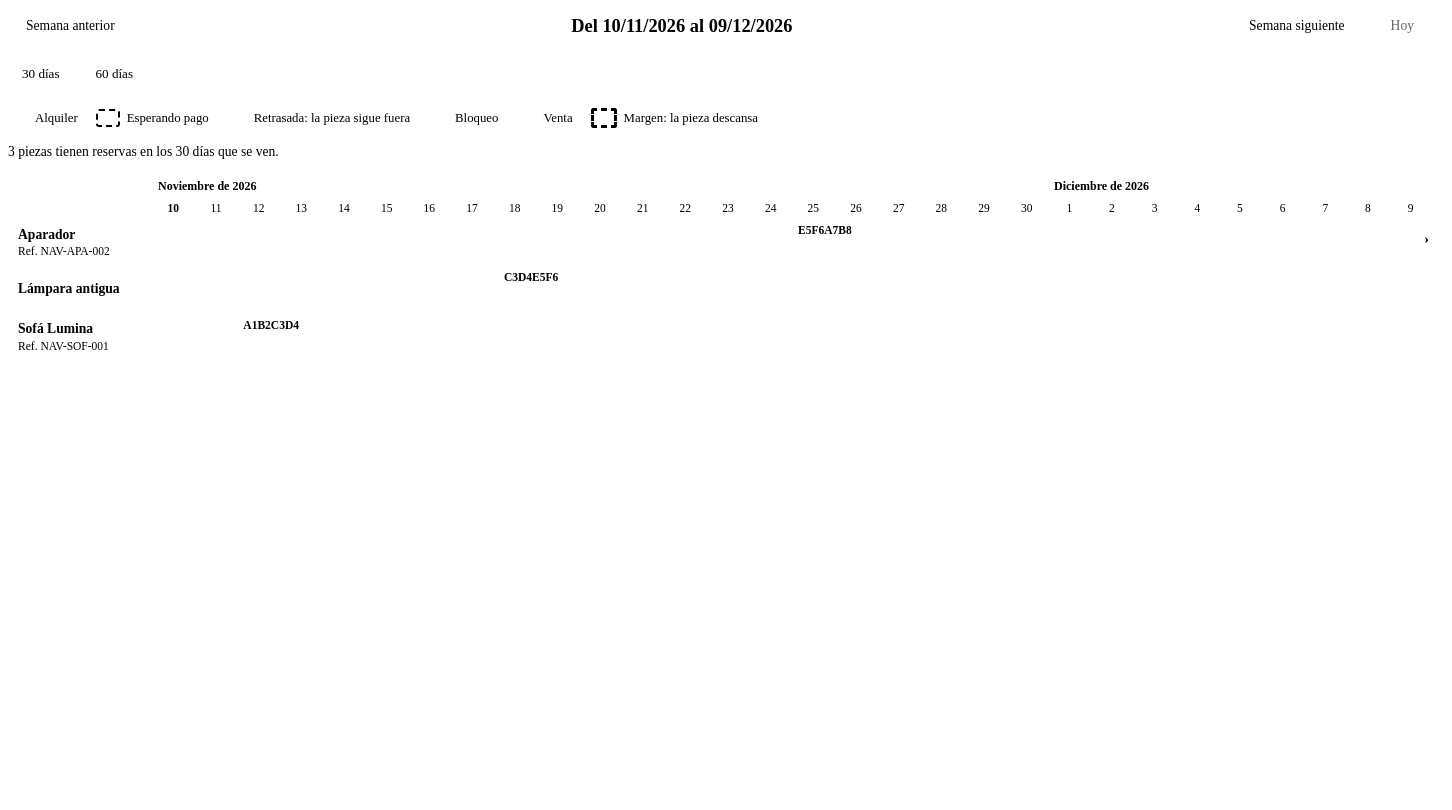
it: VistaGeneral: la ventana › cambiar los días que se ven cierra el detalle, y no vuelve a salir cuando llegan los datos
Click the button "A1B2C3D4" at [344, 335], box x1=237 y1=319 x2=451 y2=351
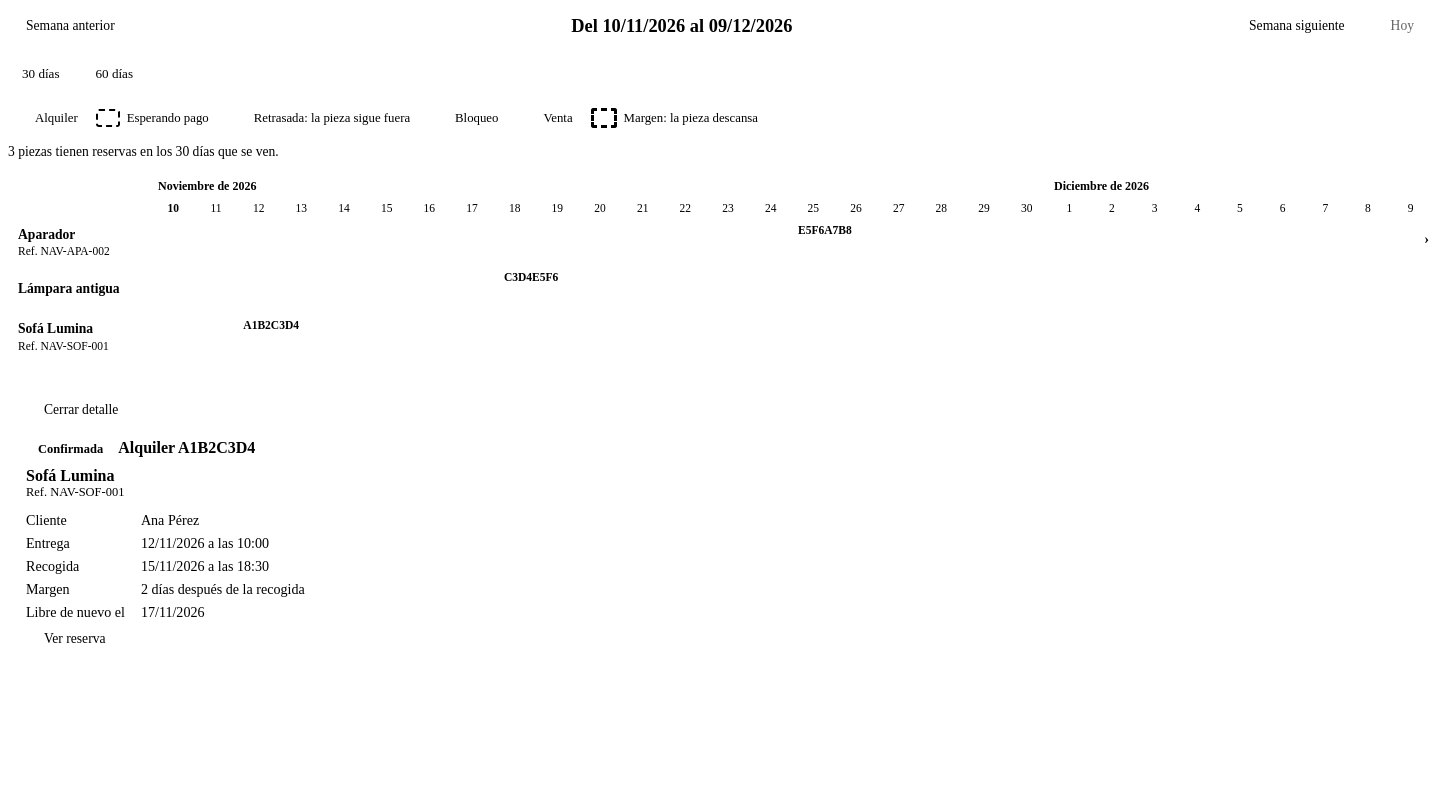
Expected: the element named "Detalle de la reserva" is shown, x1=26 y1=392 x2=305 y2=658
Click the button "60 días" at [114, 74], box x1=82 y1=58 x2=147 y2=90
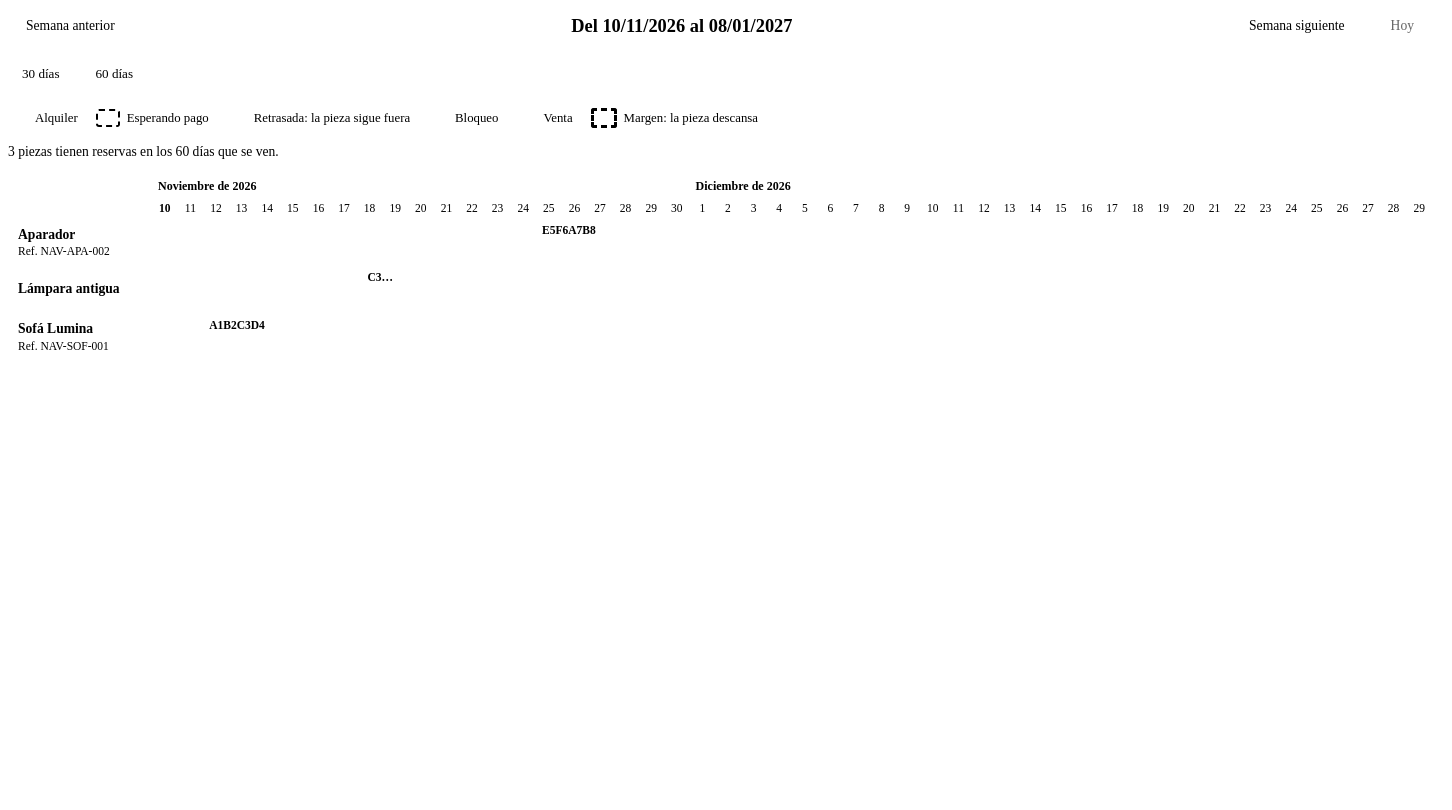
Expected: the text "3 piezas tienen reservas en los 60 días que se ven." is shown, x1=8 y1=144 x2=279 y2=159
Click the button "A1B2C3D4" at [267, 335], box x1=203 y1=319 x2=331 y2=351
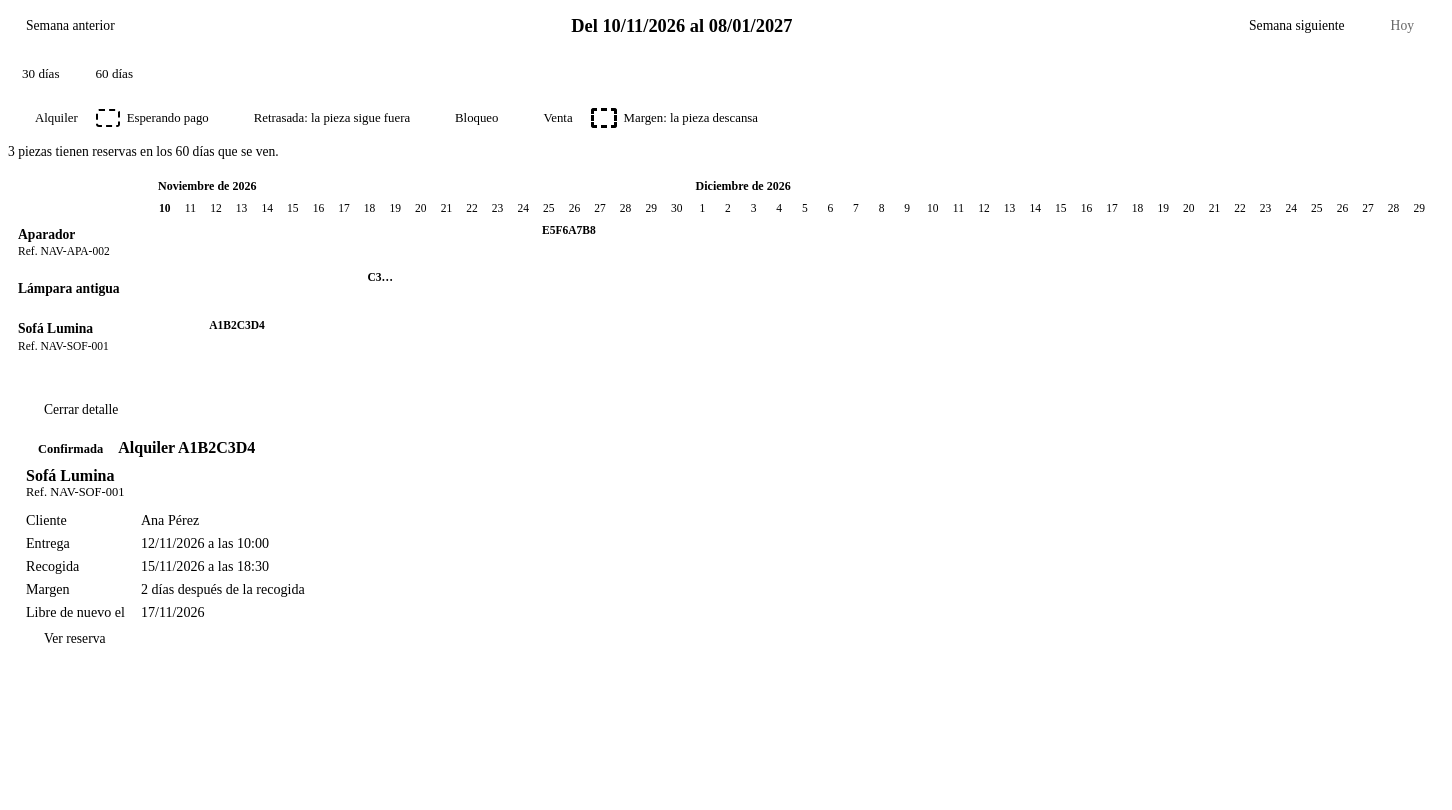
Expected: the element named "Detalle de la reserva" is shown, x1=26 y1=392 x2=305 y2=658
Click the button "30 días" at [41, 74], box x1=8 y1=58 x2=74 y2=90
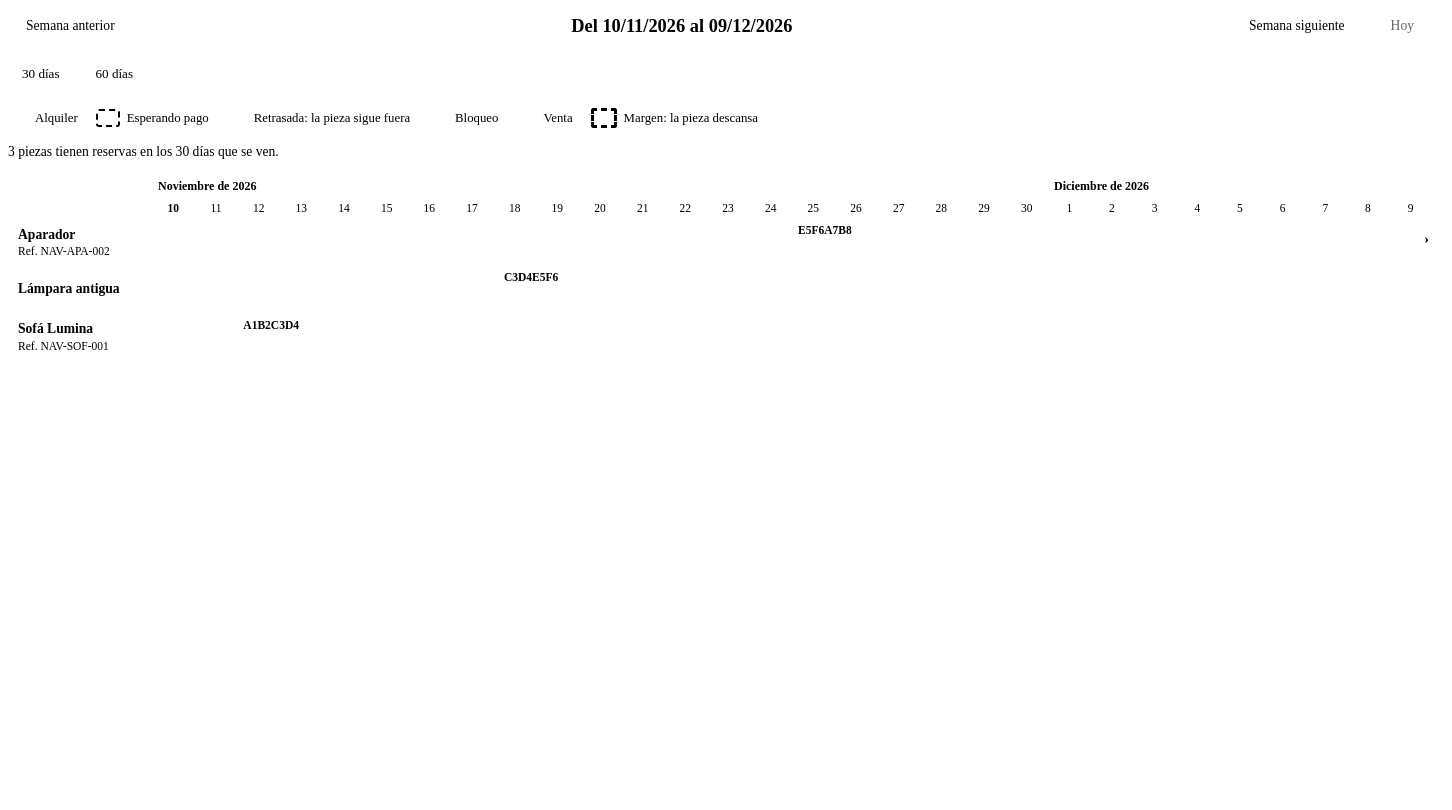
Expected: the text "3 piezas tienen reservas en los 30 días que se ven." is shown, x1=8 y1=144 x2=279 y2=159
